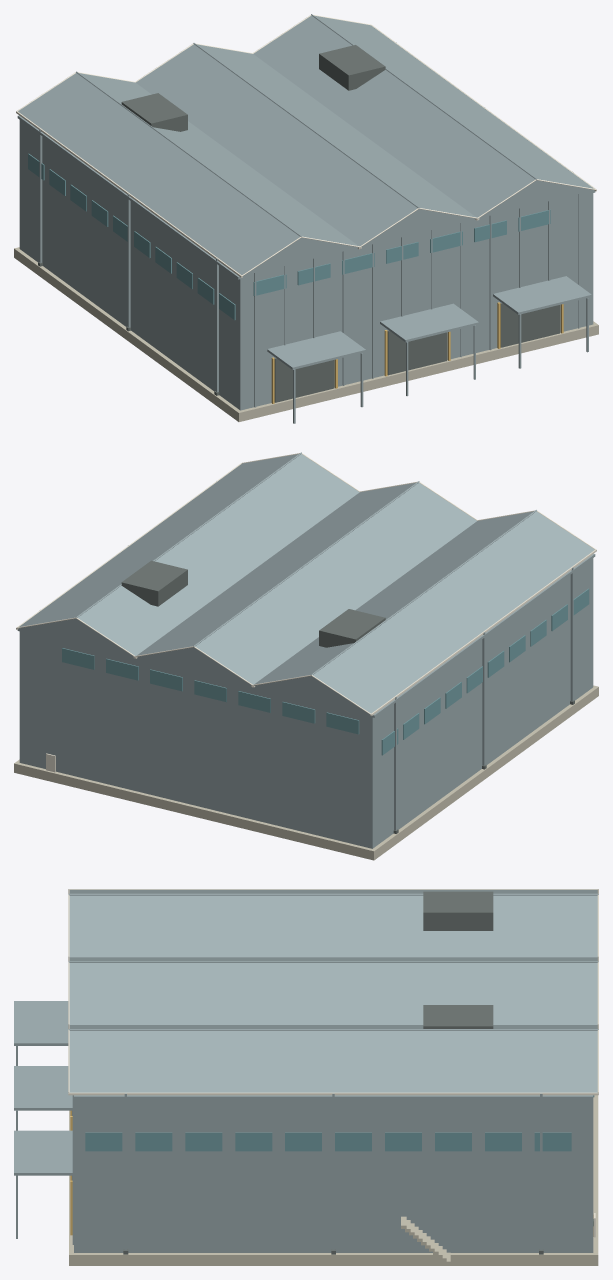
The model's file is production-1.glb.
3 views of the same model, one above another, from view 1: azimuth 30°, elevation 25°; view 2: azimuth 150°, elevation 25°; view 3: azimuth 270°, elevation 25° (orthographic). The views are drawn at different scales.
Bounding box in the file's own units: 50.65 × 22.5 × 58.58.
